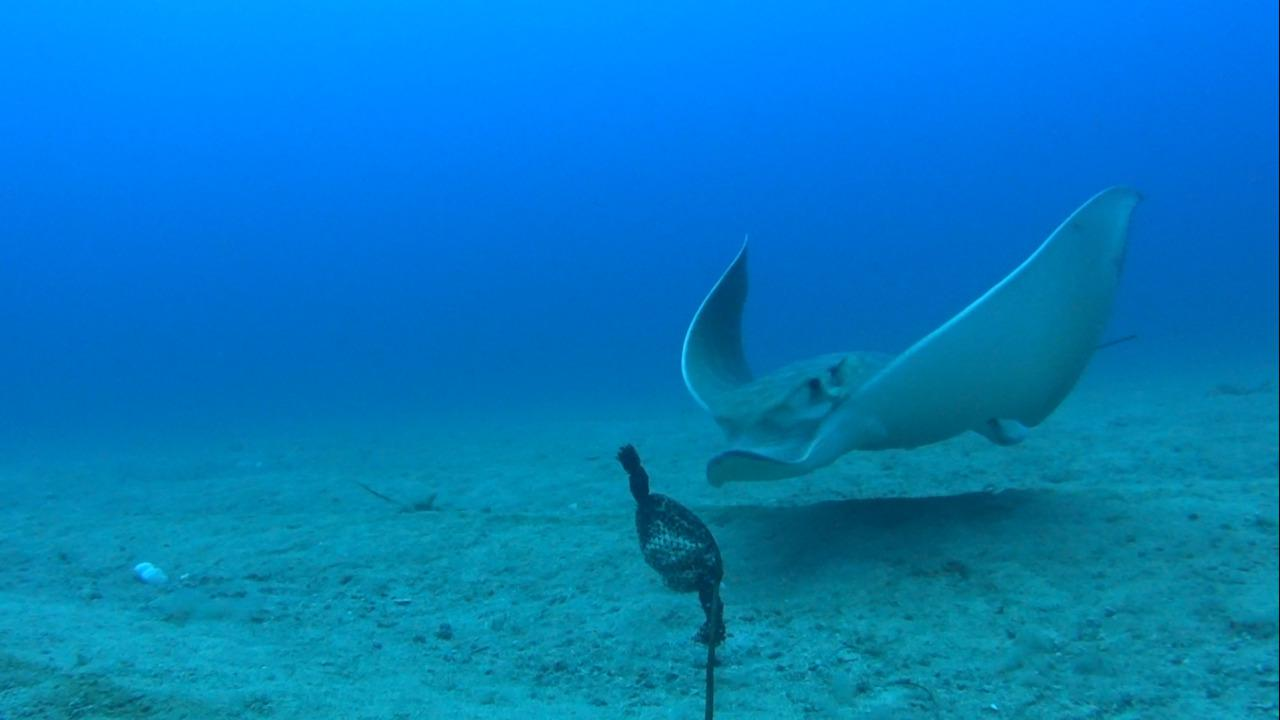myliobatis: (669, 177, 1162, 487)
